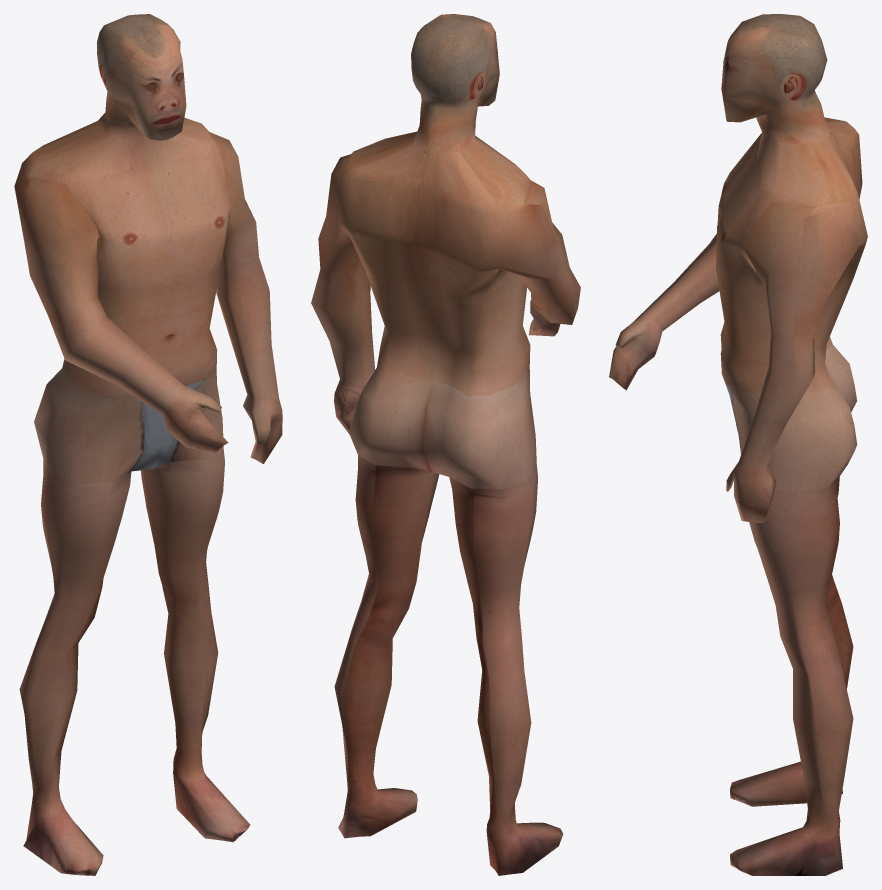
File: Human Body - Drink.fbx
The picture shows the model from 3 angles, left to right: view 1: azimuth 30°, elevation 25°; view 2: azimuth 150°, elevation 25°; view 3: azimuth 270°, elevation 25°; orthographic projection.
Visible parts, largest first — view 1: male body; view 2: male body; view 3: male body.
Part boxes in pixels (<box>): male body: <box>14,14,282,875</box>; male body: <box>311,14,580,875</box>; male body: <box>609,14,867,875</box>.
Bounding box in the file's own units: 42.37 × 141 × 40.86.
